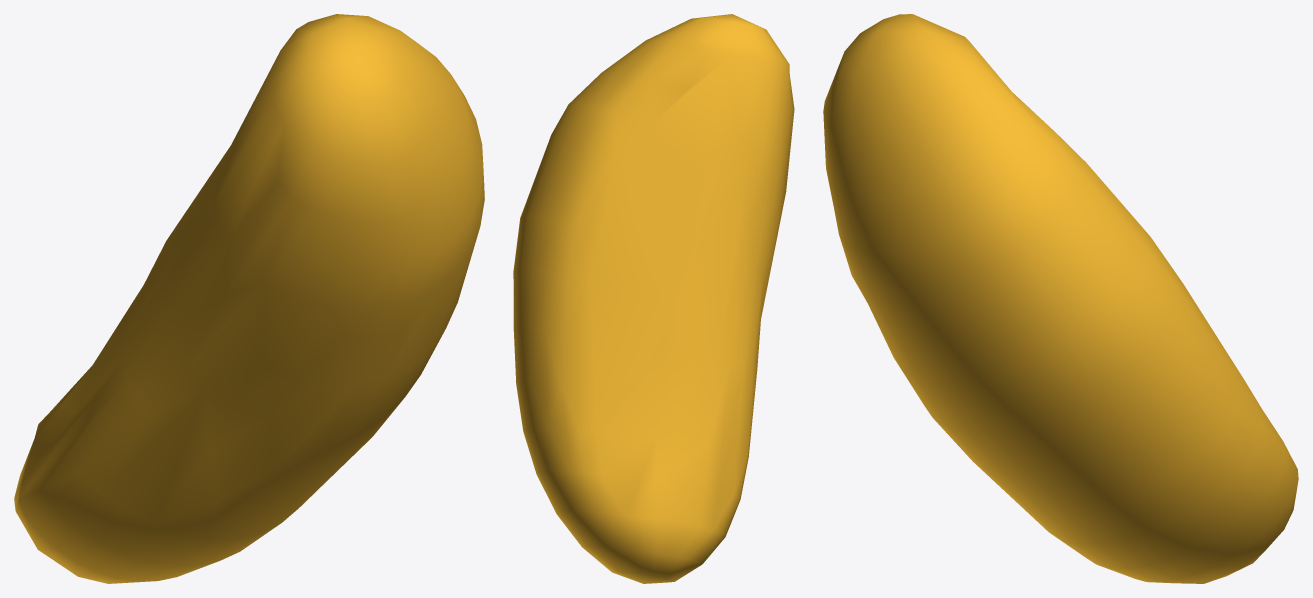
File: nervoso-olive-l.glb
3 renders of one model, left to right at view 1: azimuth 30°, elevation 25°; view 2: azimuth 150°, elevation 25°; view 3: azimuth 270°, elevation 25°, orthographic. The views are drawn at different scales.
Visible parts, largest first — view 1: Olive.l; view 2: Olive.l; view 3: Olive.l.
Part boxes in pixels (left/top/right/bottom): Olive.l: left=14, top=14, right=484, bottom=583; Olive.l: left=513, top=14, right=794, bottom=583; Olive.l: left=823, top=14, right=1298, bottom=583.
Size of the model in its own units: 0.00773 by 0.0138 by 0.0103.
